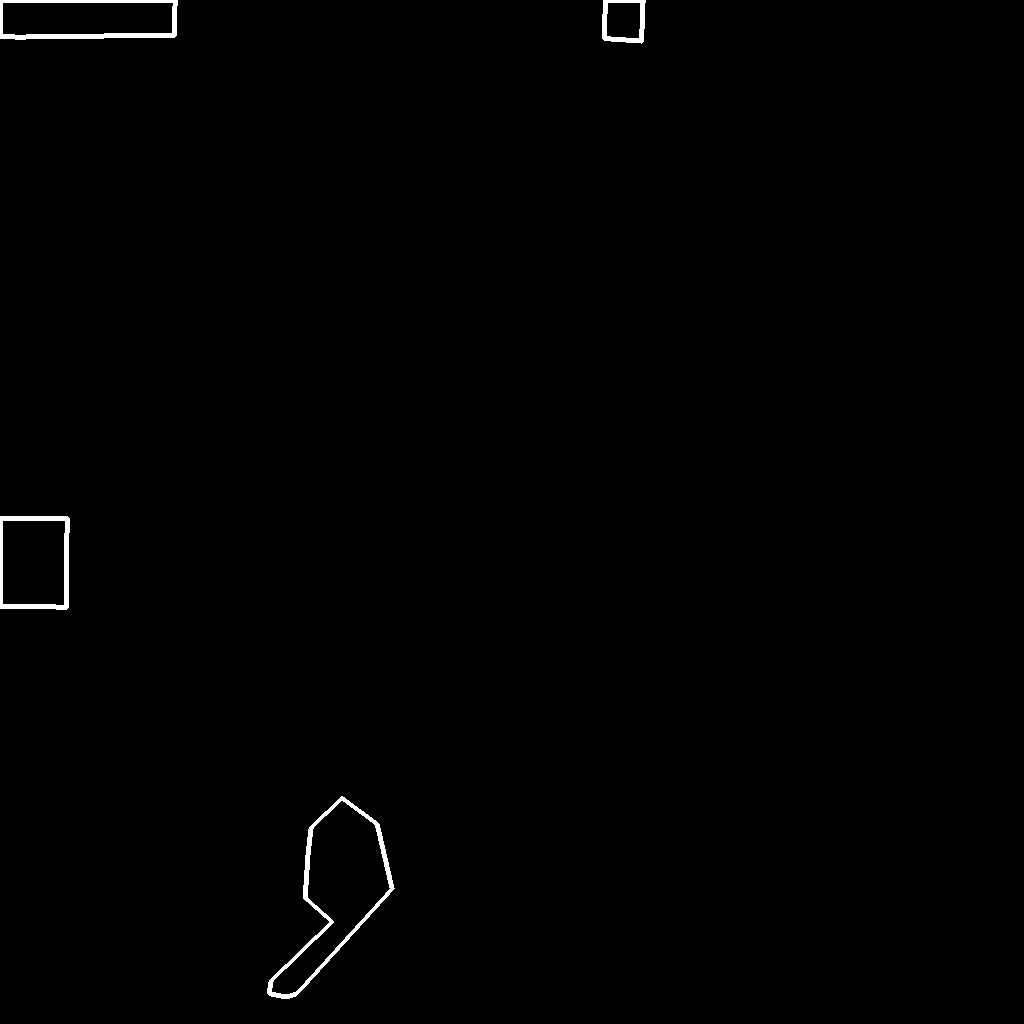building: (269, 798, 393, 998), (0, 0, 176, 38), (0, 518, 68, 608), (604, 0, 644, 42)
